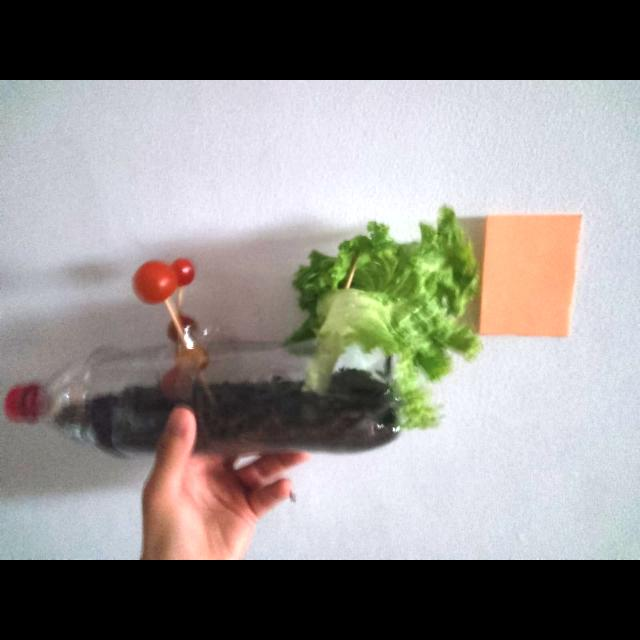card: (479, 216, 580, 336)
fully_grown: (133, 259, 194, 303)
